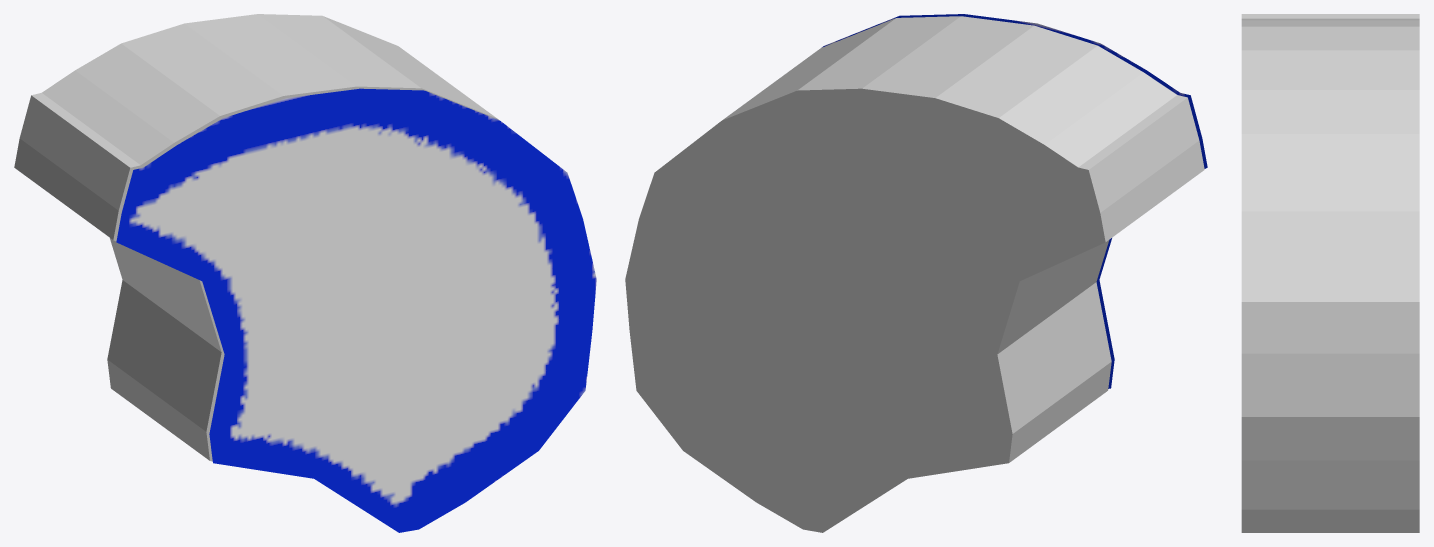
3 renders of one model, left to right at view 1: azimuth 30°, elevation 25°; view 2: azimuth 150°, elevation 25°; view 3: azimuth 270°, elevation 25°, orthographic. The views are drawn at different scales.
Visible parts, largest first — view 1: In_3_1, In_3_0; view 2: In_3_0, In_3_1; view 3: In_3_0.
Part boxes in pixels (left/top/right/bottom): In_3_1: left=116, top=88, right=596, bottom=532; In_3_0: left=14, top=14, right=499, bottom=461; In_3_0: left=625, top=16, right=1204, bottom=532; In_3_1: left=821, top=14, right=1207, bottom=388; In_3_0: left=1241, top=14, right=1419, bottom=532.
Bounding box in the file's own units: 1.4 × 1.29 × 0.515.
2 materials, 1 textured.
